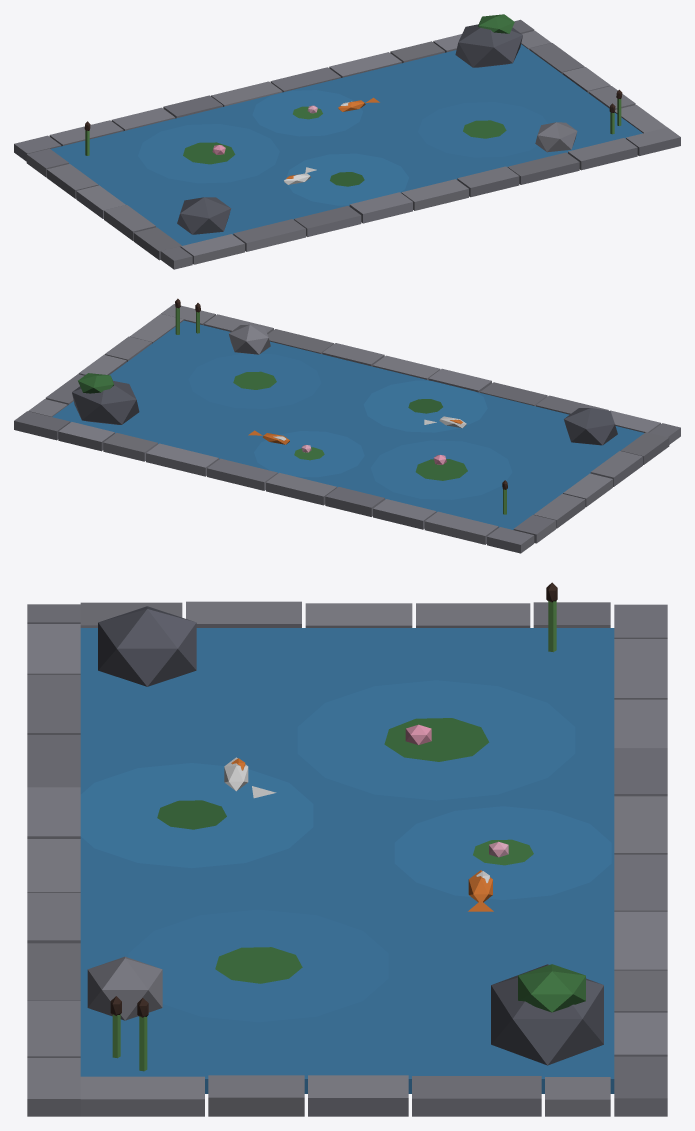
Rendered from Decor_NinjaDojo_Pond.fbx.
3 renders of one model, top to bottom at view 1: azimuth 30°, elevation 25°; view 2: azimuth 150°, elevation 25°; view 3: azimuth 270°, elevation 25°, orthographic. The views are drawn at different scales.
Parts seen in each view (by area): view 1: Pond_Body; view 2: Pond_Body; view 3: Pond_Body.
Boxes of the visible parts, x1,y1,x2,y2 form: Pond_Body: (14, 14, 680, 269); Pond_Body: (14, 298, 680, 553); Pond_Body: (27, 582, 667, 1116).
Bounding box in the file's own units: 26.4 × 2.4 × 14.4.
